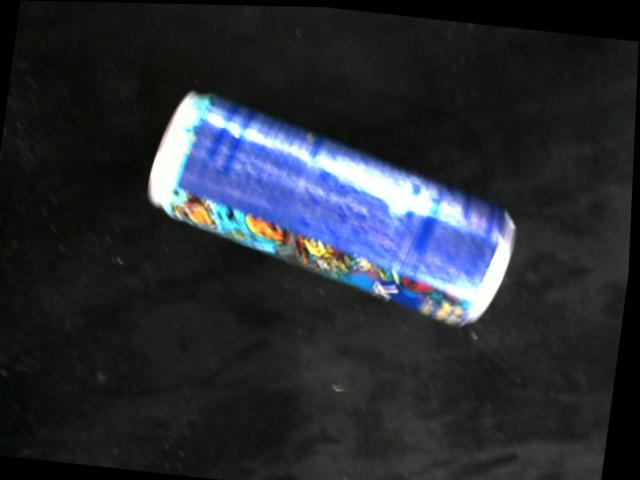can: (145, 86, 521, 331)
